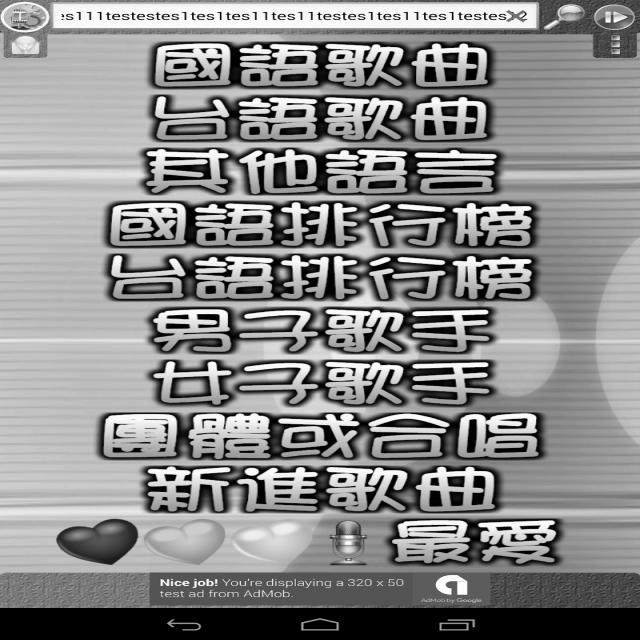ImageView: (49, 519, 383, 567)
TextView: (102, 44, 560, 508)
